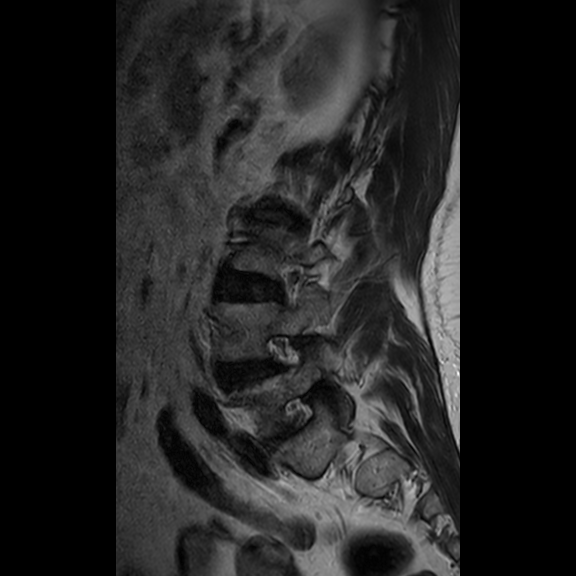LFS0: (259, 325, 310, 391), (266, 250, 315, 318)
